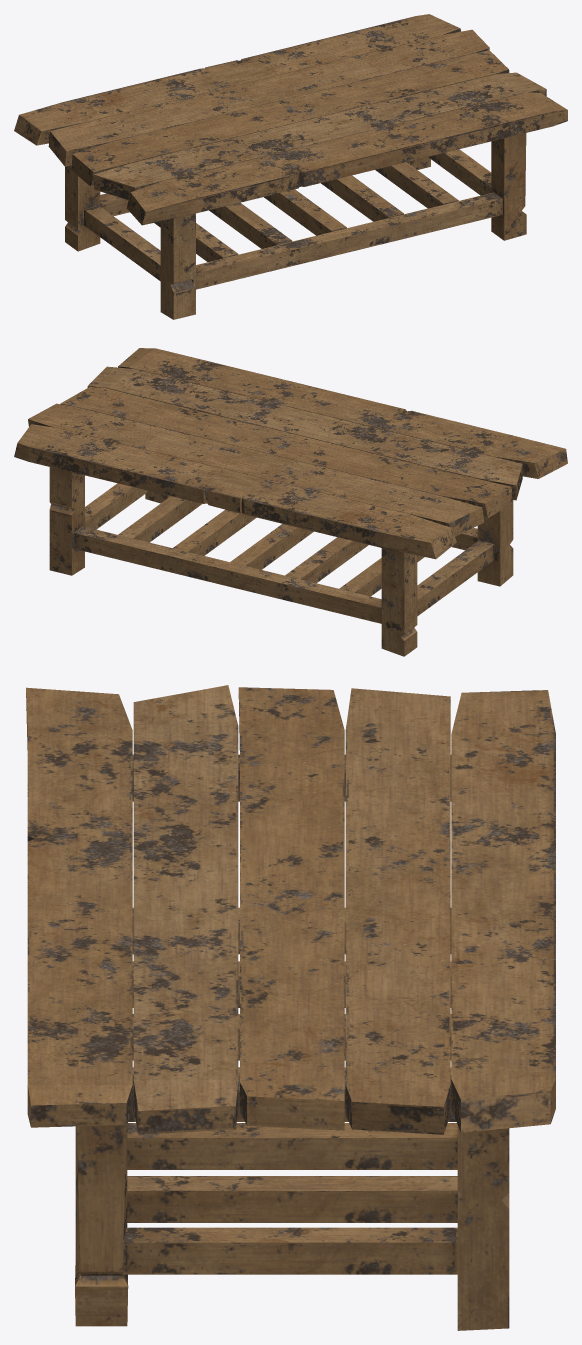
File: medieval_table.glb
3 renders of one model, top to bottom at view 1: azimuth 30°, elevation 25°; view 2: azimuth 150°, elevation 25°; view 3: azimuth 270°, elevation 25°, orthographic. The views are drawn at different scales.
Visible parts, largest first — view 1: Cube; view 2: Cube; view 3: Cube.
Boxes of the visible parts, x1,y1,x2,y2 form: Cube: [14, 14, 567, 319]; Cube: [14, 348, 567, 656]; Cube: [26, 685, 555, 1330].
Size of the model in its own units: 4.96 by 1.42 by 2.62.
Materials: 1 (1 with a texture image).
